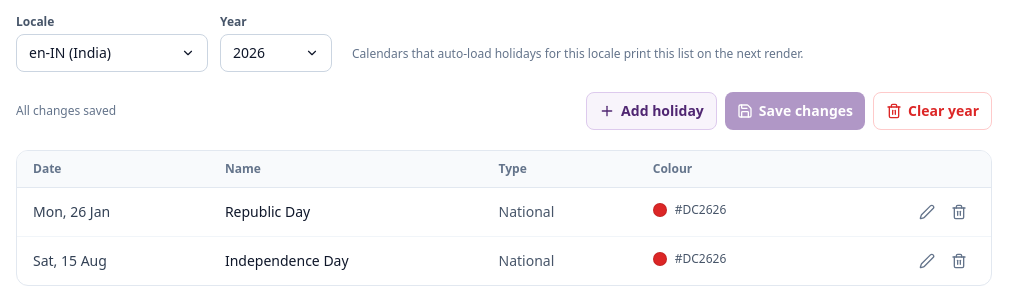
holidays page › Discard changes puts the saved list back
Click the button named "Delete Republic Day": [959, 212] box [943,196,975,228]
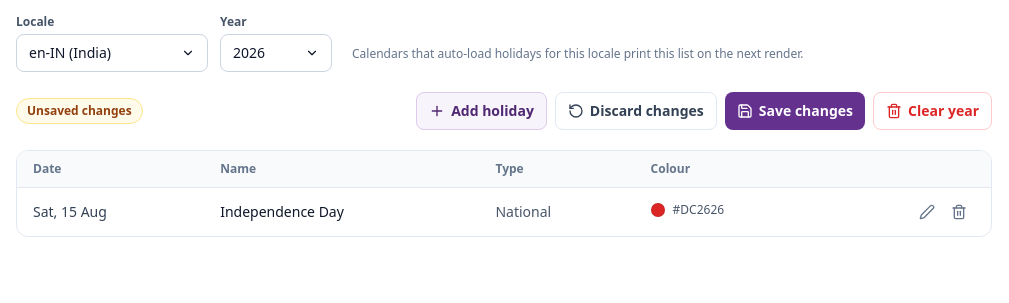
Click the button "Discard changes": [636, 111] box [555,92,717,130]
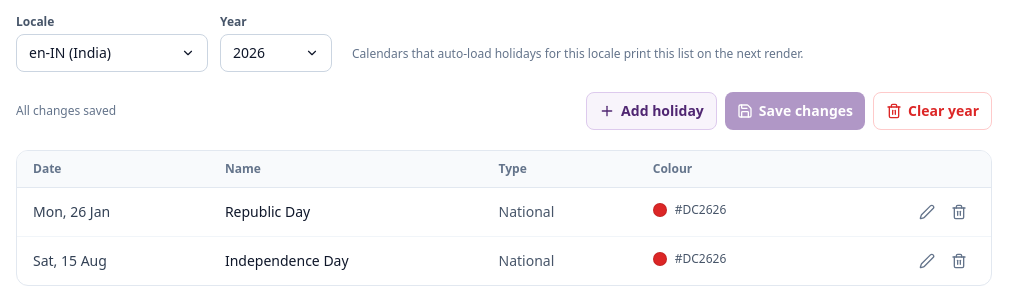
Check: the number of rows with test id "holiday-row" is 2, box [17,188,991,236]; [17,236,991,285]
